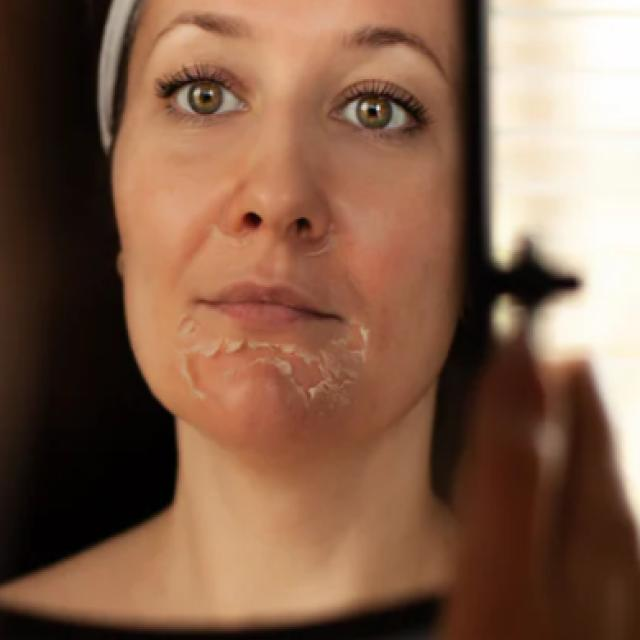flakiness: (158, 310, 375, 413)
